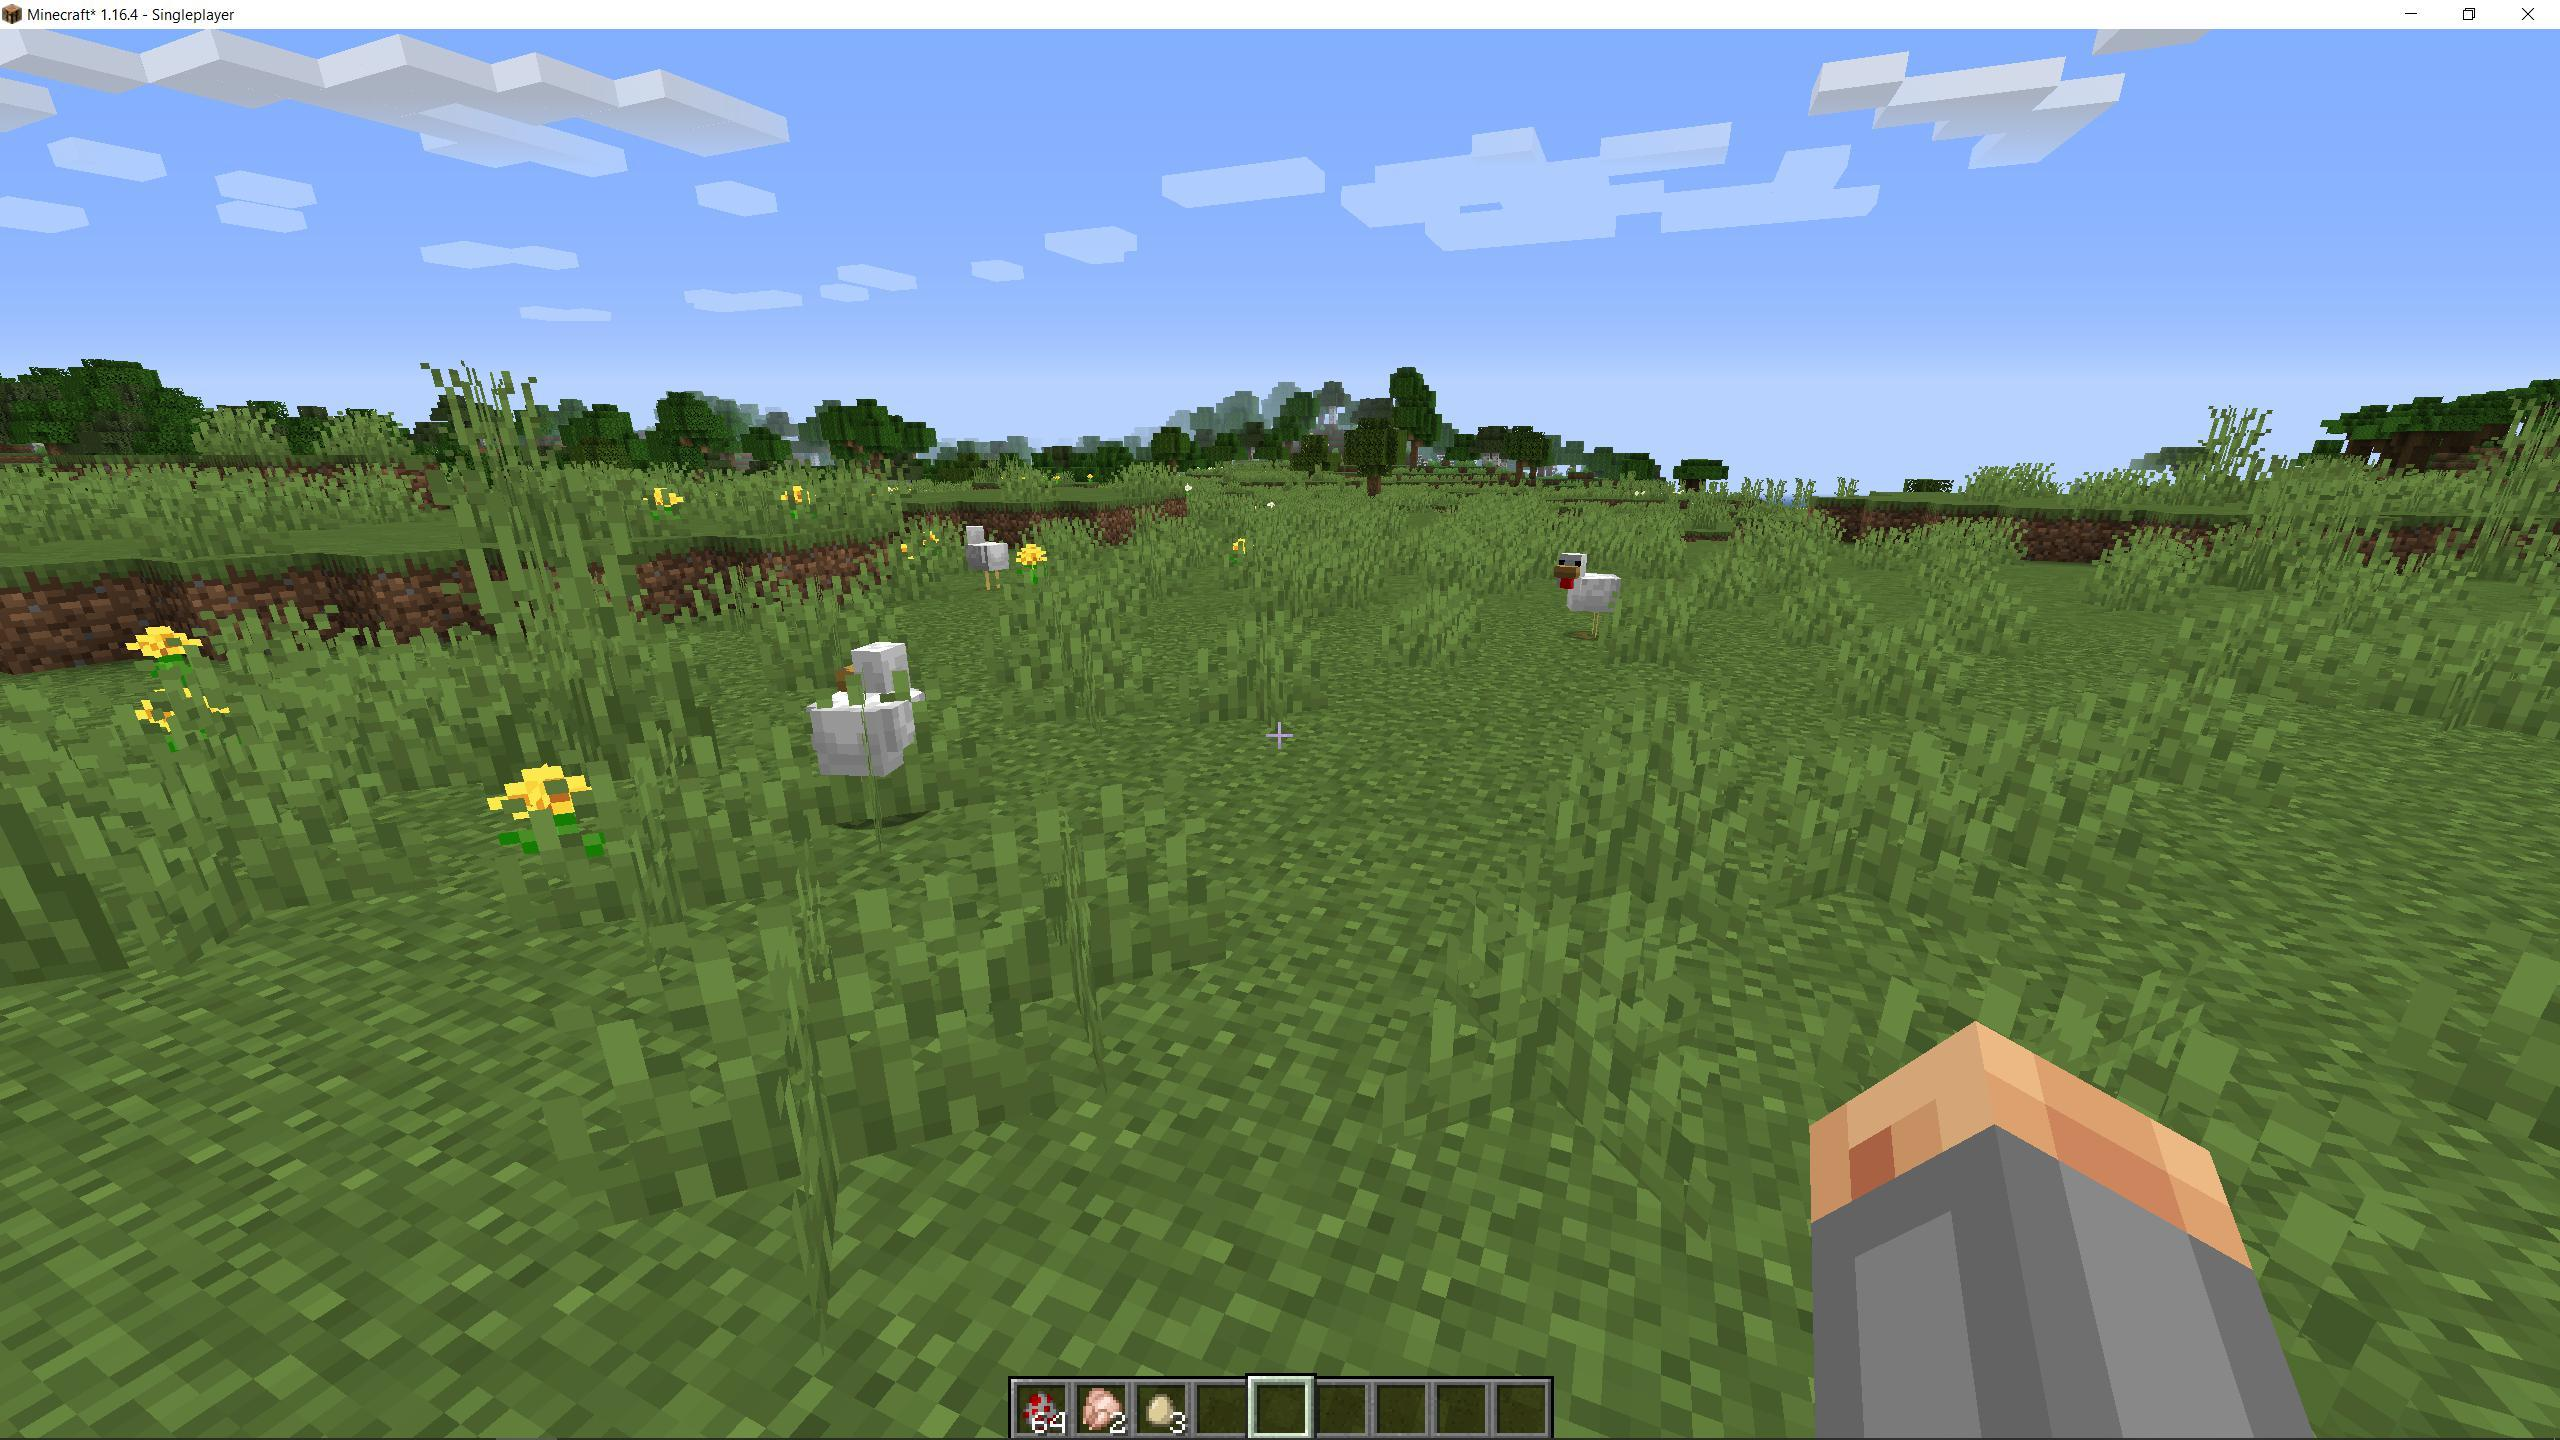chicken: (796, 635, 939, 811), (1537, 543, 1628, 663), (958, 512, 1020, 594)
